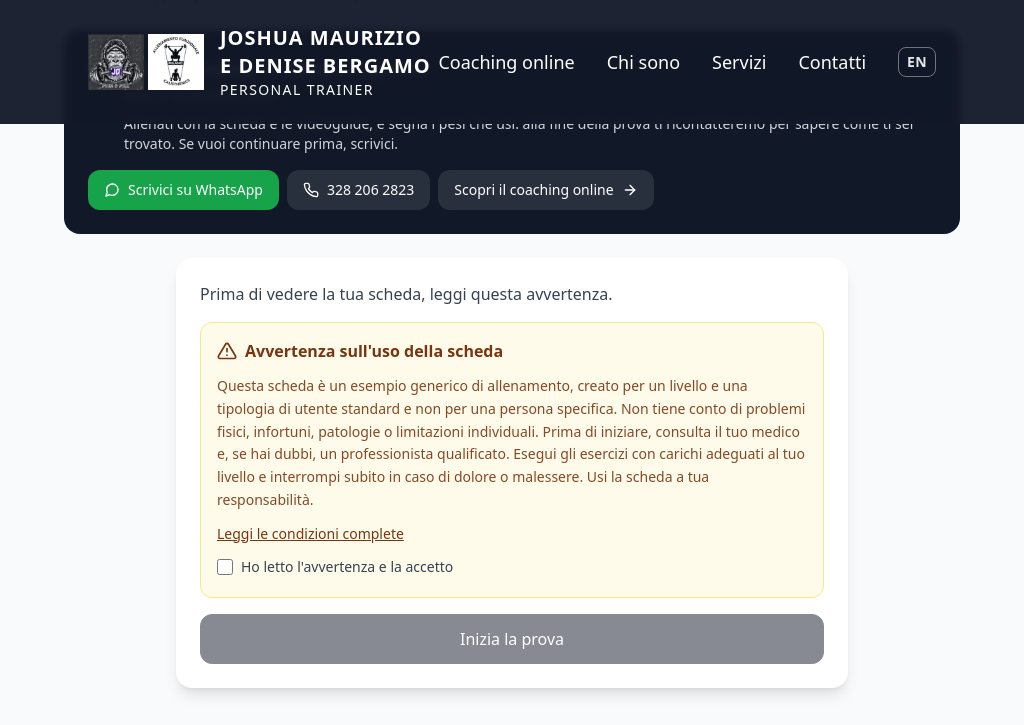
DashboardPage — trial mode › a free session accepts the notice on the plan before seeing it
This screenshot has width=1024, height=725.
(page scrolled)
Expected: the text "Questa scheda è un esempio generico di allenamento" is shown, [217,376,805,509]
Expected: the button "Inizia la prova" is disabled, [200,614,824,664]
Click the checkbox labelled "Ho letto l'avvertenza e la accetto".
click(225, 566)  # box [217,558,233,574]
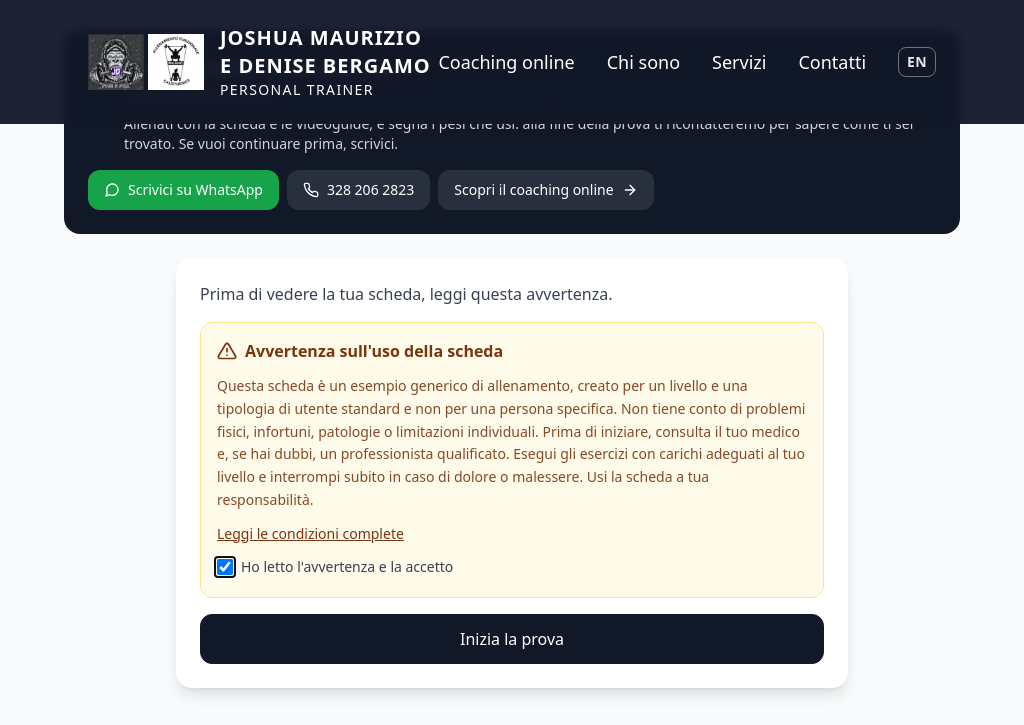
Click the button "Inizia la prova".
click(512, 638)  # box [200,614,824,664]
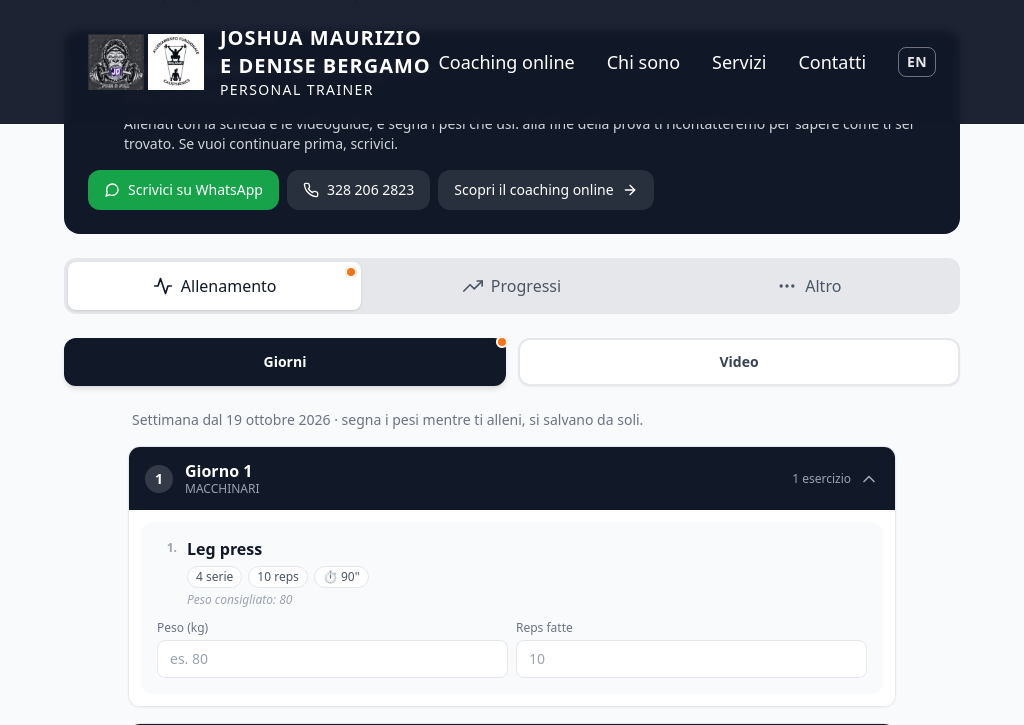
Result: the button "Progressi" is shown at [365,262,659,310]
